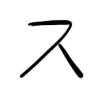su: (14, 16, 87, 81)
